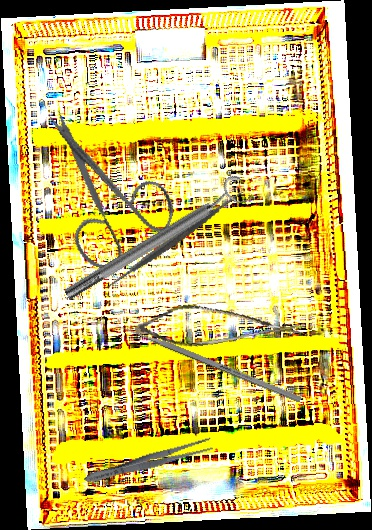Dressing Forceps: (82, 434, 215, 489)
Fixation Ring: (57, 171, 254, 309)
Iris Scissors: (6, 107, 194, 285)
Micro Scissor: (132, 283, 306, 366)
Pusher: (111, 320, 302, 403)
Spatula Surgical: (96, 161, 252, 319)
